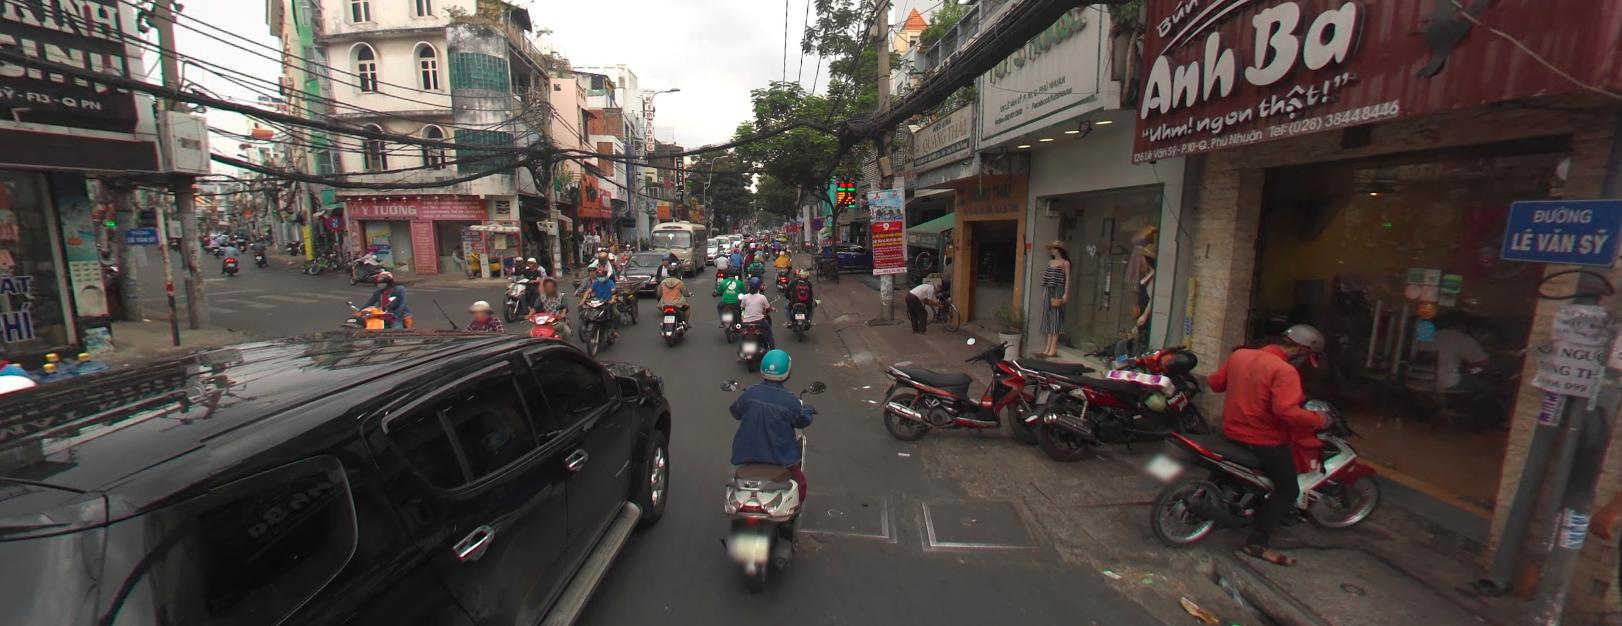Cam dung va do: (326, 213, 343, 229), (810, 217, 823, 229)
